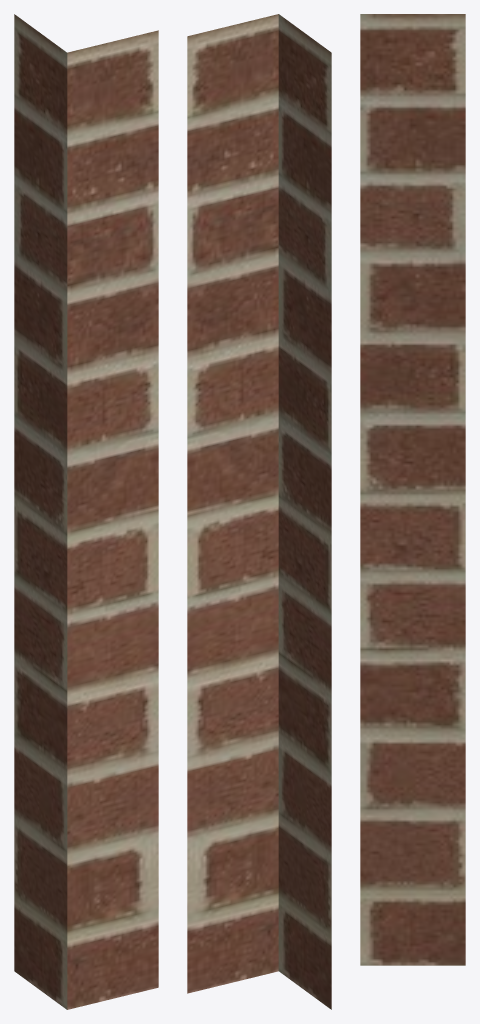
The model's file is SM_Wall_Low_Edge_01.glb.
3 renders of one model, left to right at view 1: azimuth 30°, elevation 25°; view 2: azimuth 210°, elevation 25°; view 3: azimuth 270°, elevation 25°, orthographic.
Parts seen in each view (by area): view 1: SM_Wall_Low_Edge_01; view 2: SM_Wall_Low_Edge_01; view 3: SM_Wall_Low_Edge_01.
Part boxes in pixels (x1=…): SM_Wall_Low_Edge_01: x1=14, y1=14, x2=158, y2=1009; SM_Wall_Low_Edge_01: x1=187, y1=14, x2=331, y2=1009; SM_Wall_Low_Edge_01: x1=360, y1=14, x2=465, y2=965.
Bounding box in the file's own units: 0.1 × 1 × 0.1.
Materials: 1 (1 with a texture image).
